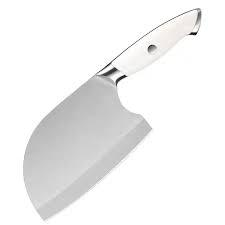Knife: (22, 7, 201, 220)
